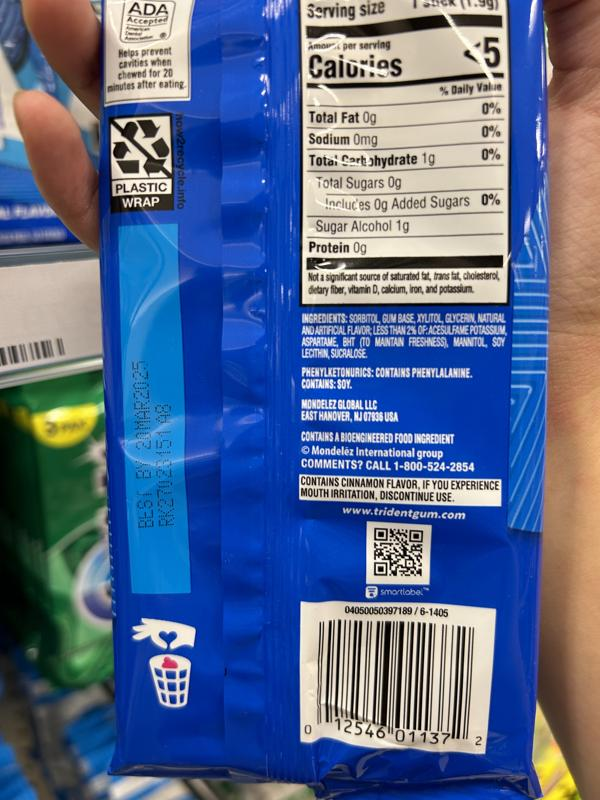ingredients: (299, 312, 509, 360)
